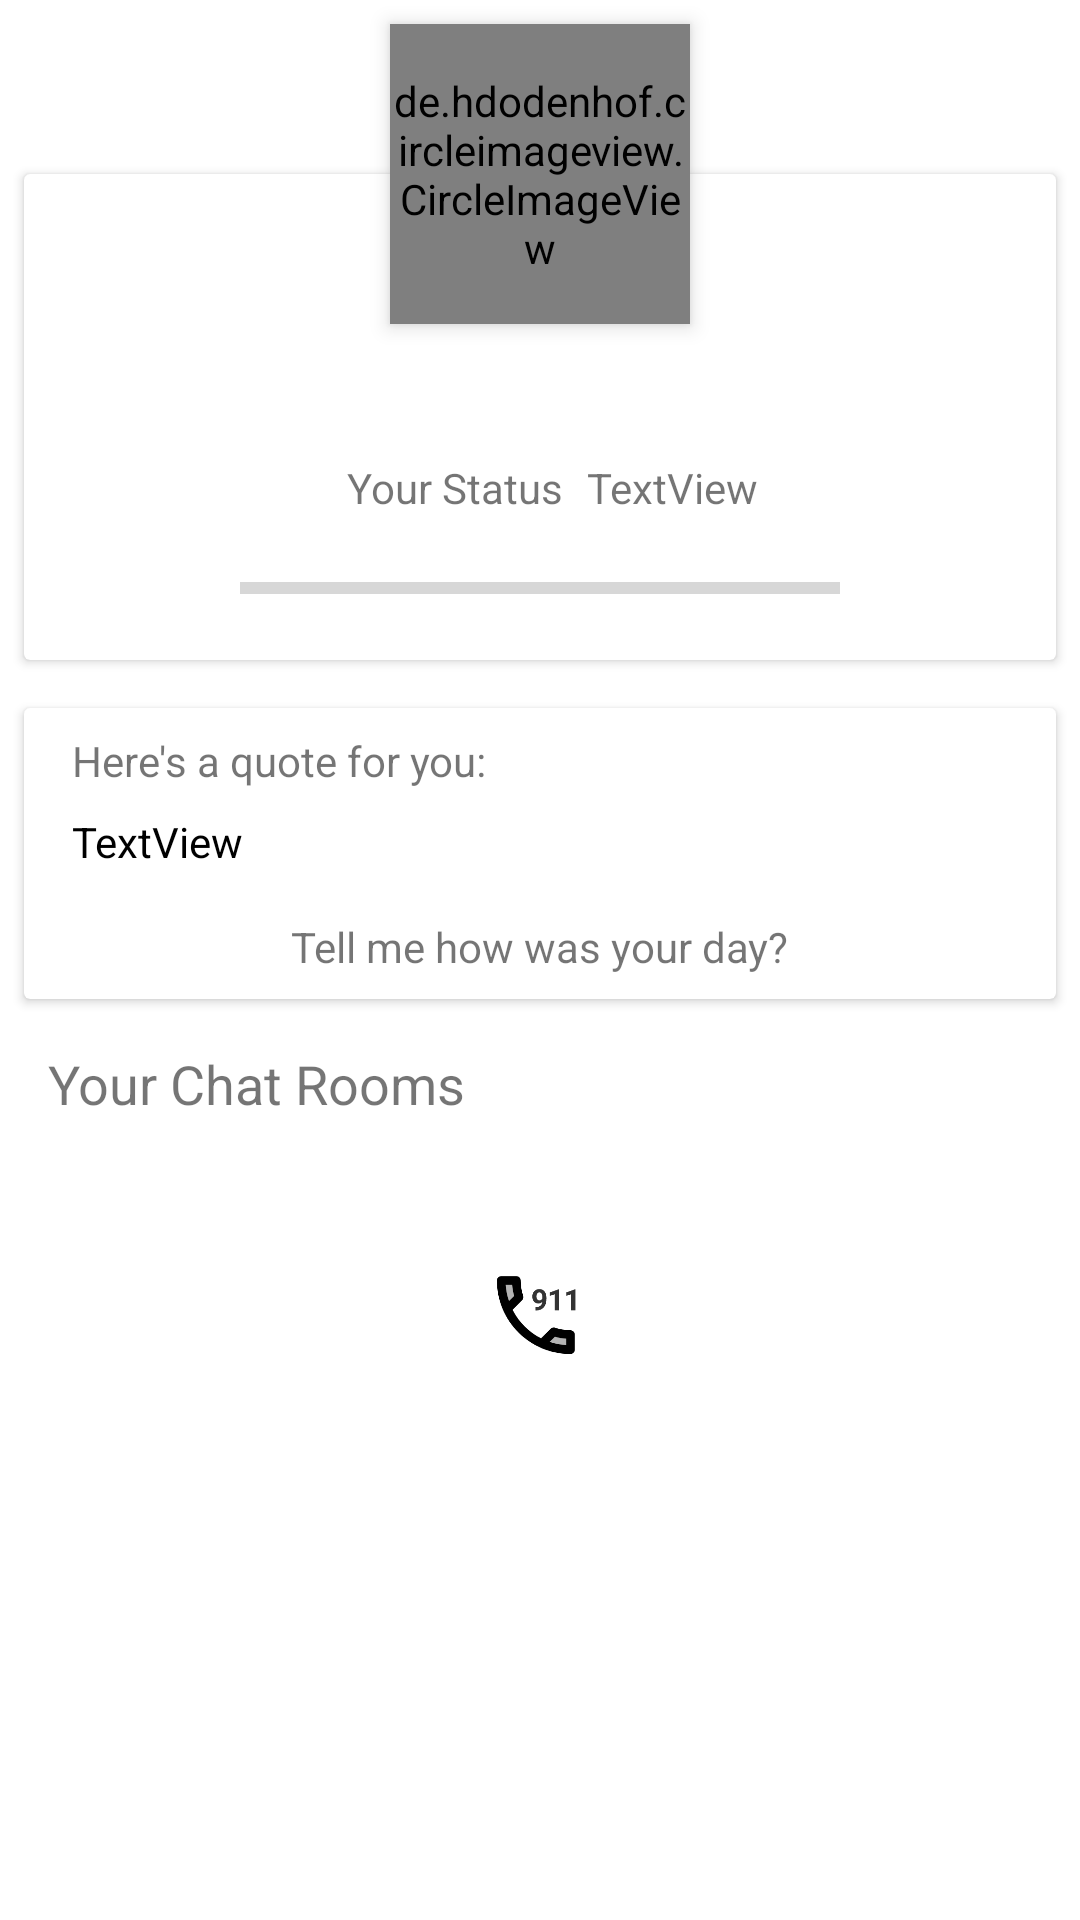

Named icons in this screenshot (1080*1920) and their centers, point (x, y):
call: point (536, 1315)
